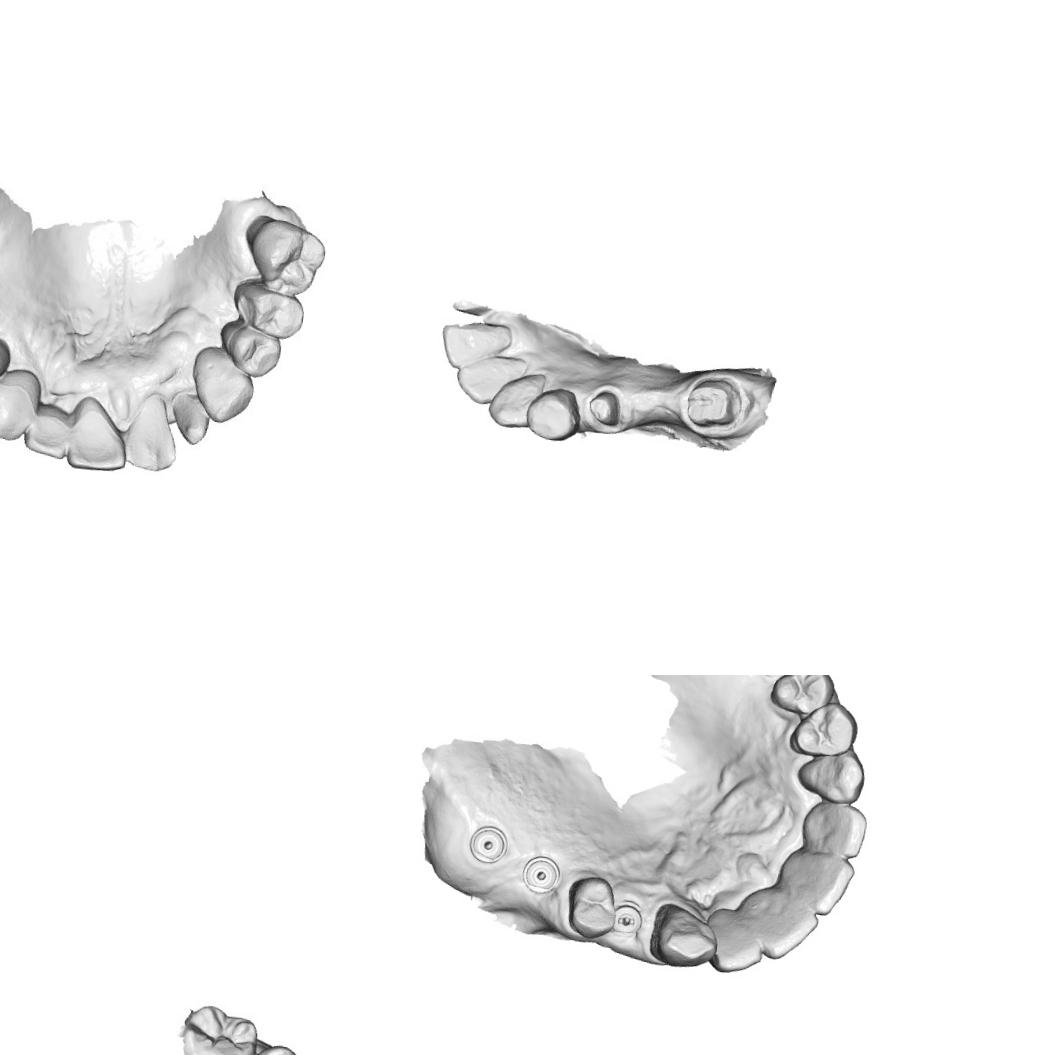canine: (188, 344, 259, 425), (646, 900, 721, 972), (794, 742, 869, 807), (485, 374, 545, 432), (0, 365, 42, 442)
crown: (683, 373, 746, 432), (584, 386, 624, 427)
implant: (518, 852, 562, 898), (466, 823, 511, 866)
implant_minus: (610, 898, 645, 939)
incisor: (772, 843, 858, 919), (741, 885, 822, 964), (701, 906, 768, 978), (799, 798, 870, 860), (68, 403, 129, 473), (438, 317, 514, 373), (122, 400, 182, 470), (454, 351, 524, 408), (22, 402, 73, 458), (170, 397, 213, 446)
molar: (242, 210, 333, 302), (178, 1003, 260, 1055)
premolar: (787, 697, 861, 761), (231, 277, 306, 340), (562, 872, 622, 942), (222, 315, 286, 378), (524, 384, 584, 444), (768, 675, 839, 718), (0, 328, 17, 402)
